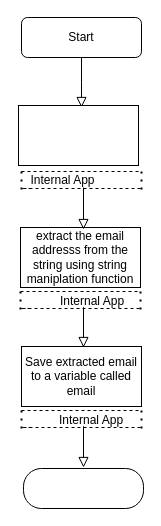
Some shapes in this 161 by 526 pixel diagram are drawn without their labels. The centre of each missing label's shape, as x and y in pixels:
Display input dialog box that prompts the user to input sentence: [78,135]
End: [83,488]
